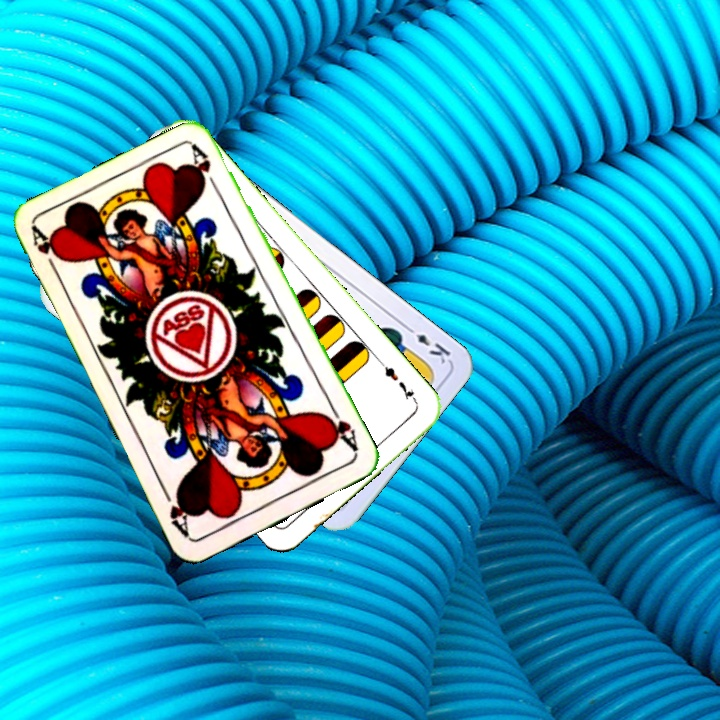E7: (376, 358, 420, 406)
EK: (401, 321, 454, 367)
HA: (320, 401, 361, 456), (27, 224, 67, 280)
